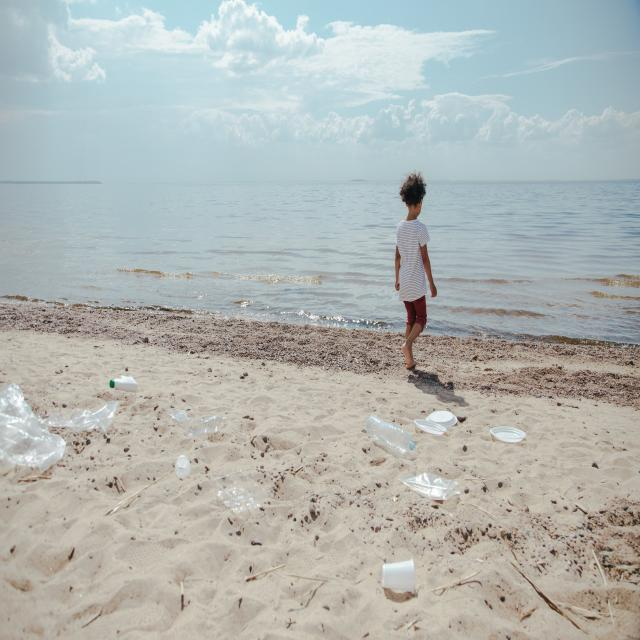plastic: (10, 411, 59, 471), (372, 419, 411, 455), (383, 562, 421, 598), (415, 474, 456, 499), (419, 410, 455, 433)
